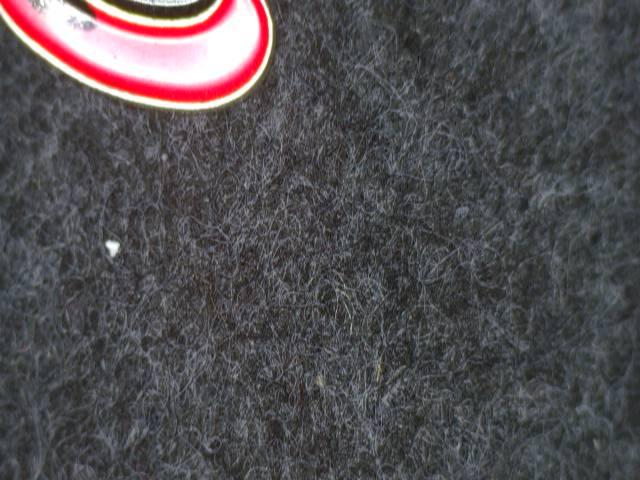Red-Hat: (0, 0, 287, 160)
Scratch: (20, 0, 105, 41)
